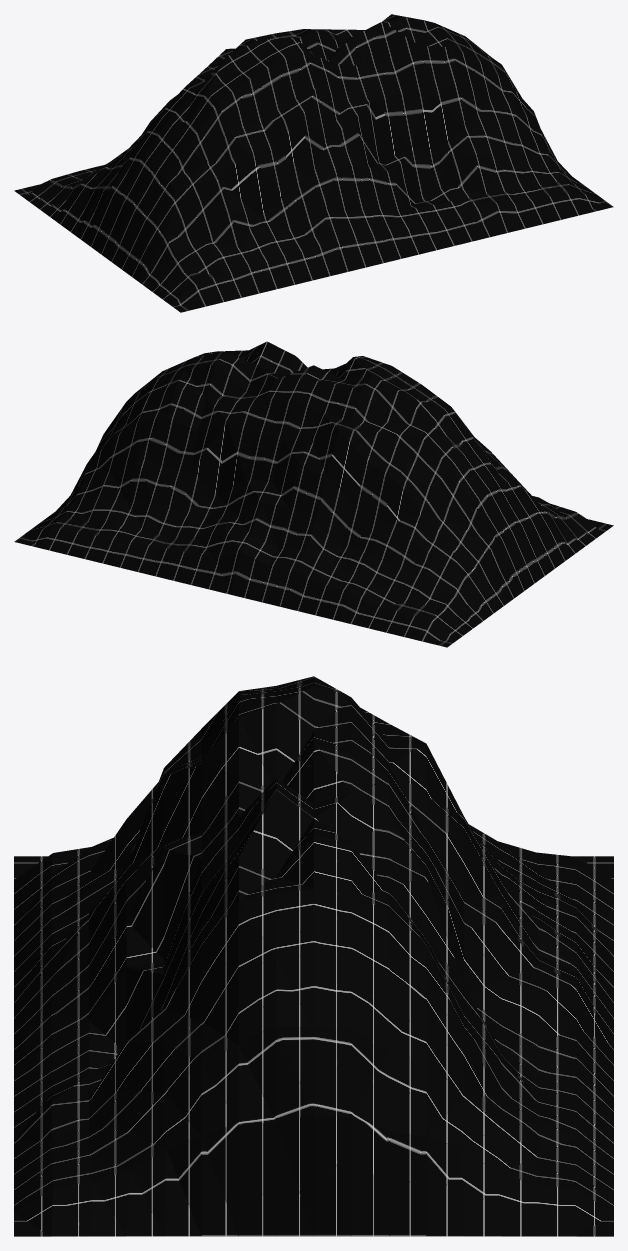
File: Mesh_Mountain-03.fbx
The picture shows the model from 3 angles, top to bottom: view 1: azimuth 30°, elevation 25°; view 2: azimuth 150°, elevation 25°; view 3: azimuth 270°, elevation 25°; orthographic projection. The views are drawn at different scales.
Visible parts, largest first — view 1: Mesh_Mountain-03_LOD0; view 2: Mesh_Mountain-03_LOD0; view 3: Mesh_Mountain-03_LOD0.
Part boxes in pixels (x1,y1,x2,y2): Mesh_Mountain-03_LOD0: [14, 14, 613, 312]; Mesh_Mountain-03_LOD0: [14, 341, 613, 647]; Mesh_Mountain-03_LOD0: [14, 676, 613, 1236].
Size of what is drawn, in the model's own units: 36 by 13.98 by 24.
